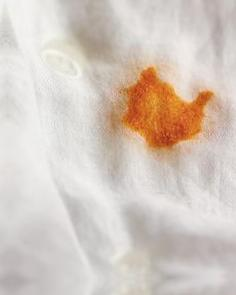stain: (108, 62, 219, 159)
